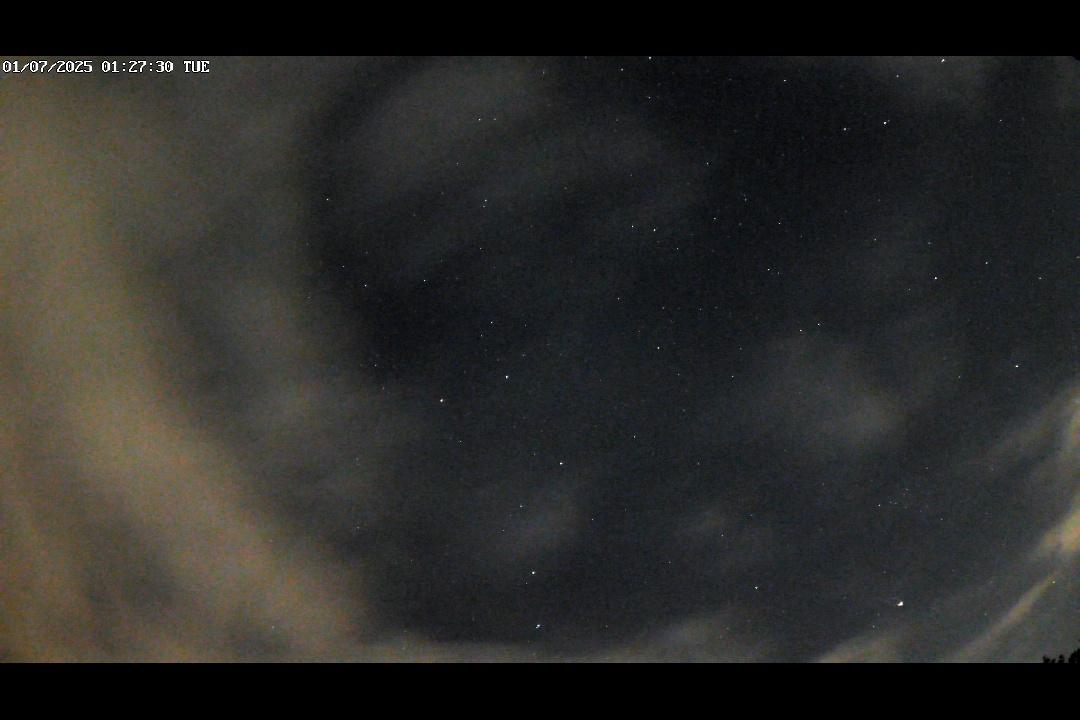Plane: (869, 586, 912, 611)
